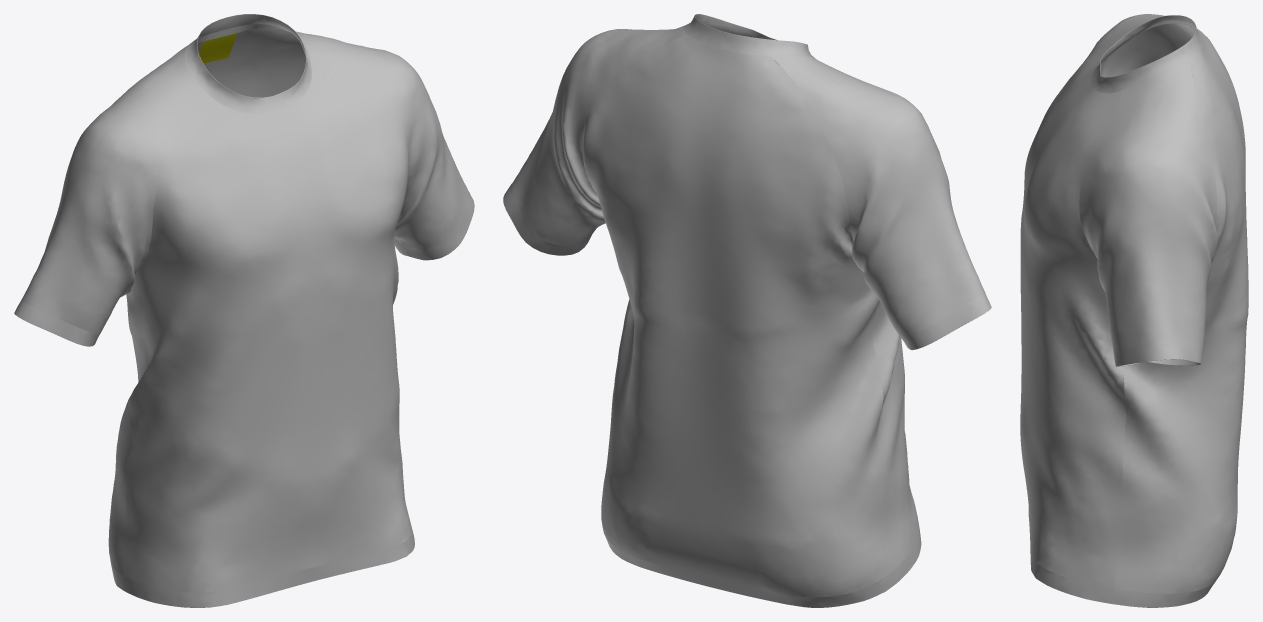
Rendered from 781001.drc.glb.
The picture shows the model from 3 angles, left to right: view 1: azimuth 30°, elevation 25°; view 2: azimuth 150°, elevation 25°; view 3: azimuth 270°, elevation 25°; orthographic projection. The views are drawn at different scales.
Visible parts, largest first — view 1: M781001_mesh_out, M781001_mesh_in, M781001_mesh_labels; view 2: M781001_mesh_out; view 3: M781001_mesh_out, M781001_mesh_in.
Boxes of the visible parts, box(x1,y1,x2,y2) form: M781001_mesh_out: box(14, 14, 474, 607); M781001_mesh_in: box(197, 28, 305, 97); M781001_mesh_labels: box(199, 33, 237, 63); M781001_mesh_out: box(503, 14, 991, 607); M781001_mesh_out: box(1020, 14, 1248, 607); M781001_mesh_in: box(1100, 23, 1195, 77).
Bounding box in the file's own units: 37.11 × 40.72 × 16.11.
2 materials, 1 textured.
